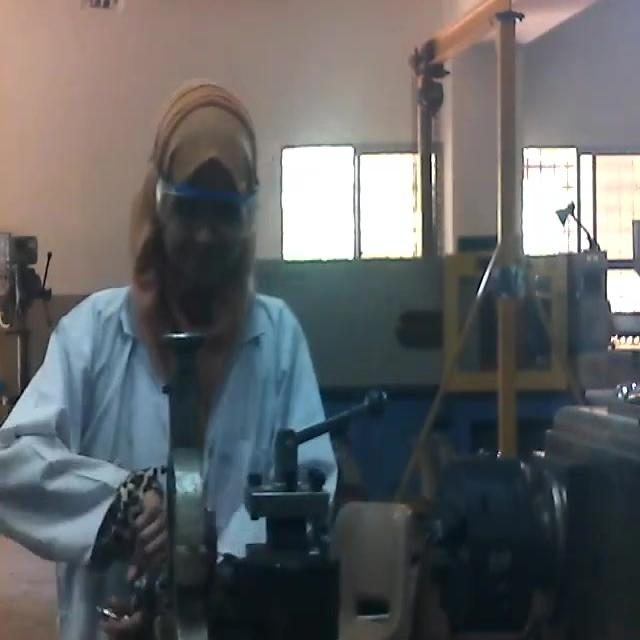googles: (154, 168, 260, 245)
labcoat: (1, 261, 341, 640)
